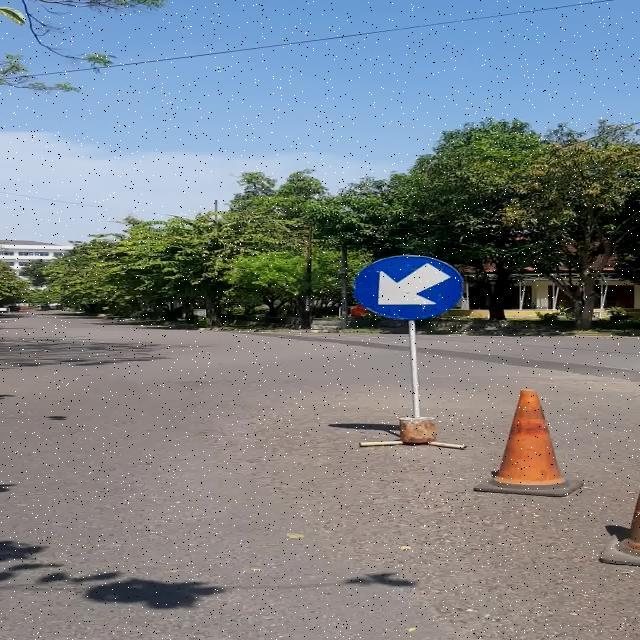Lajur Kiri: (354, 256, 462, 320)
